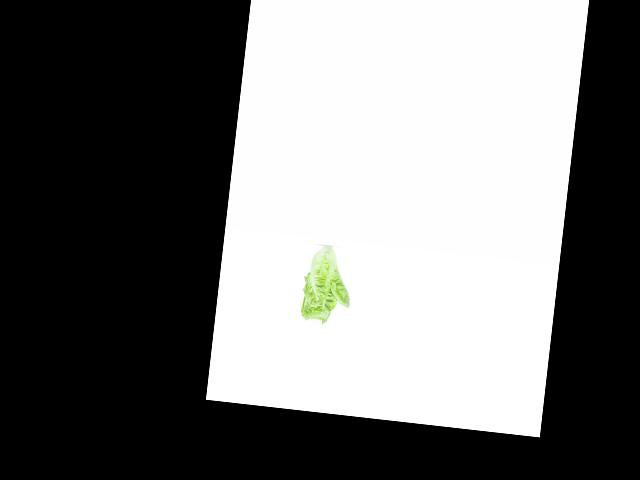lettuce: (296, 246, 355, 327)
